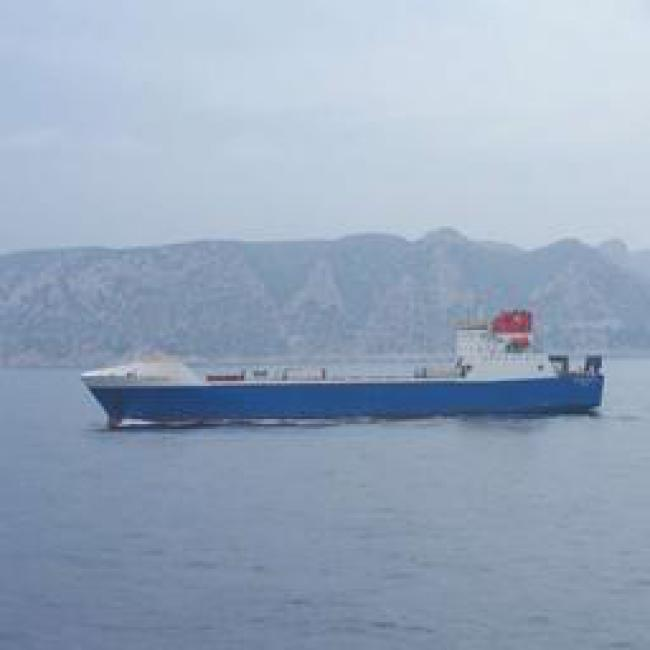Ship: (71, 352, 615, 422)
